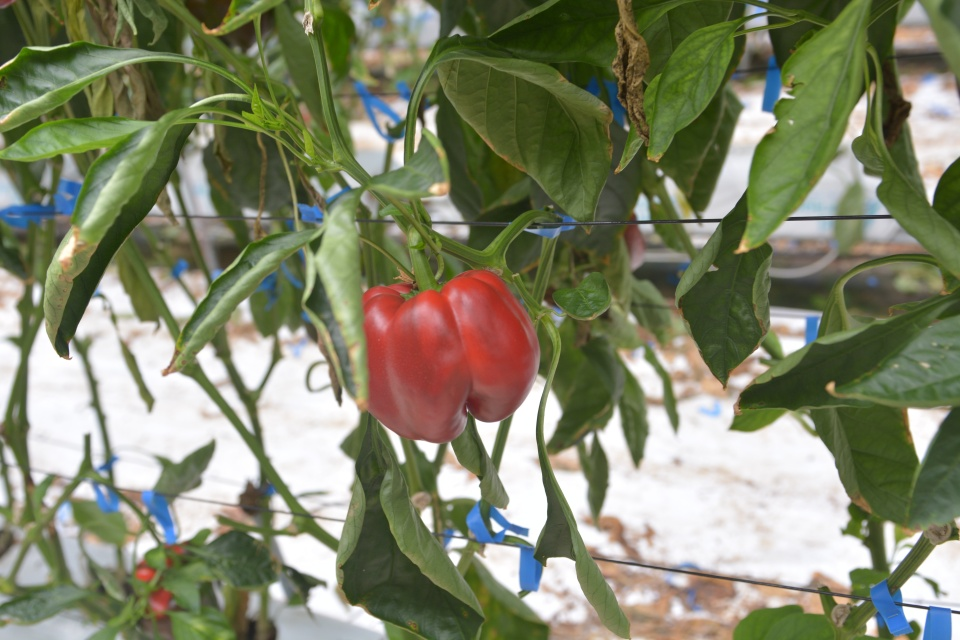fruit: (360, 268, 542, 445), (526, 211, 647, 310)
pedicle: (400, 282, 444, 300)
